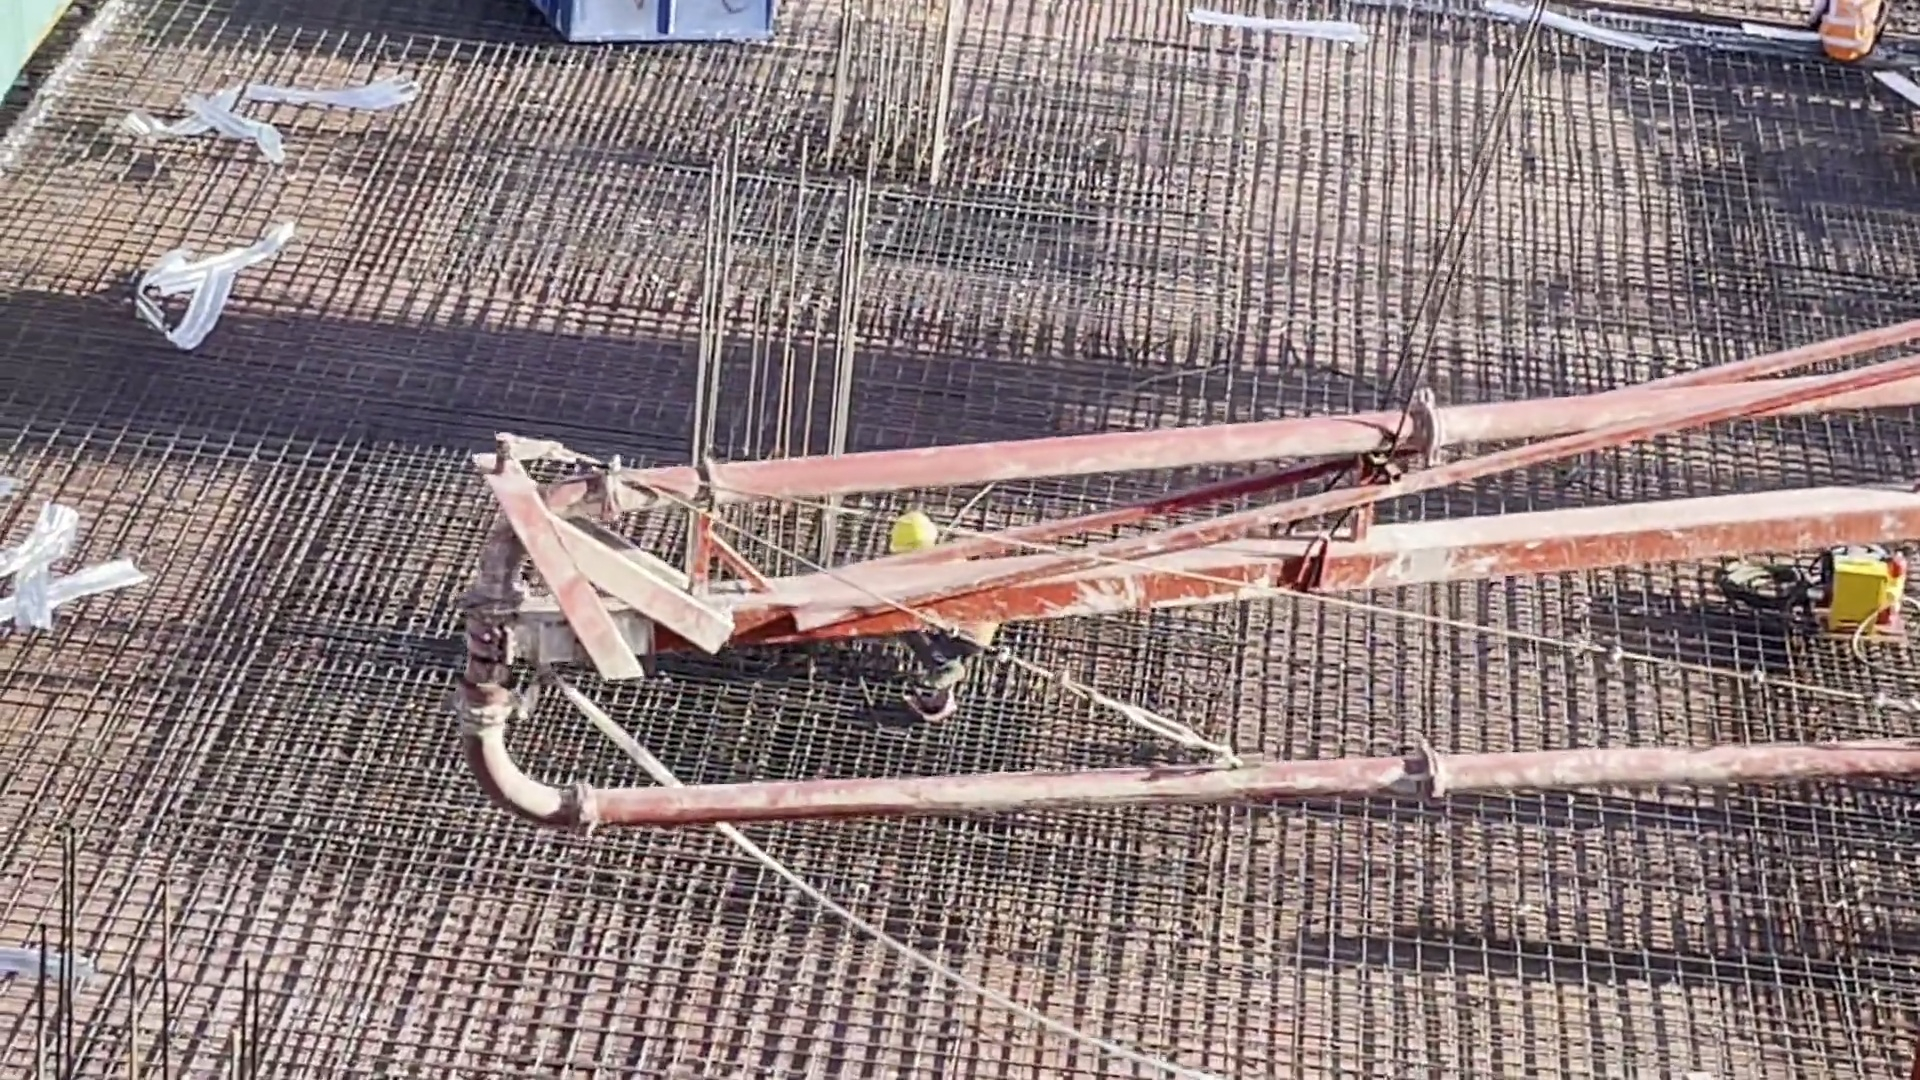helmet: (885, 514, 932, 544)
hopper: (546, 1, 775, 60)
person: (894, 510, 1007, 721), (1801, 1, 1892, 74)
vest: (1823, 1, 1871, 59)
